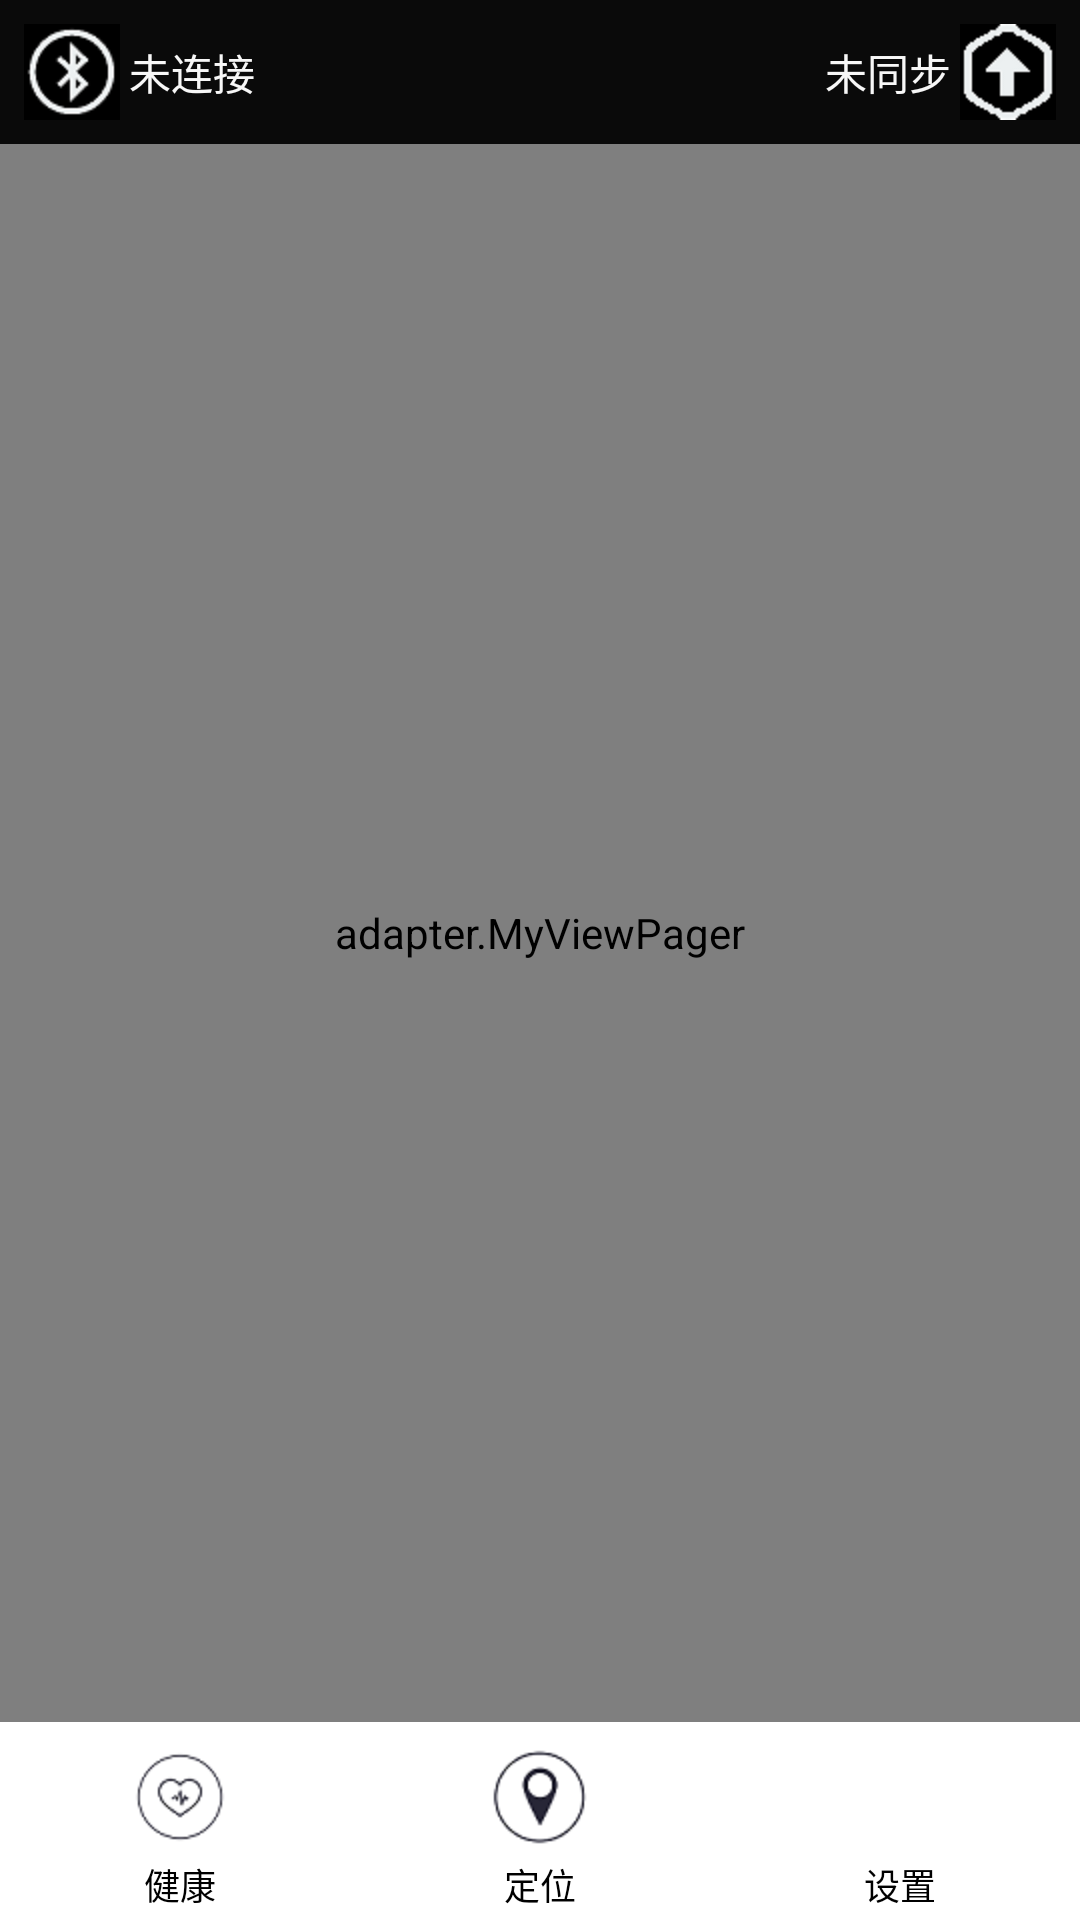

Named icons in this screenshot (1080*1920) and their centers, (x=x, y=y):
load: (x=1008, y=72)
